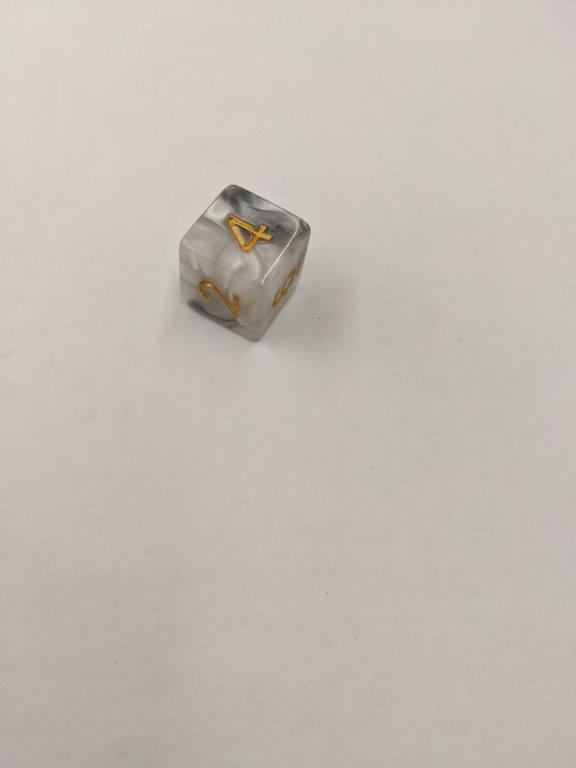d6-4: (177, 179, 313, 343)
